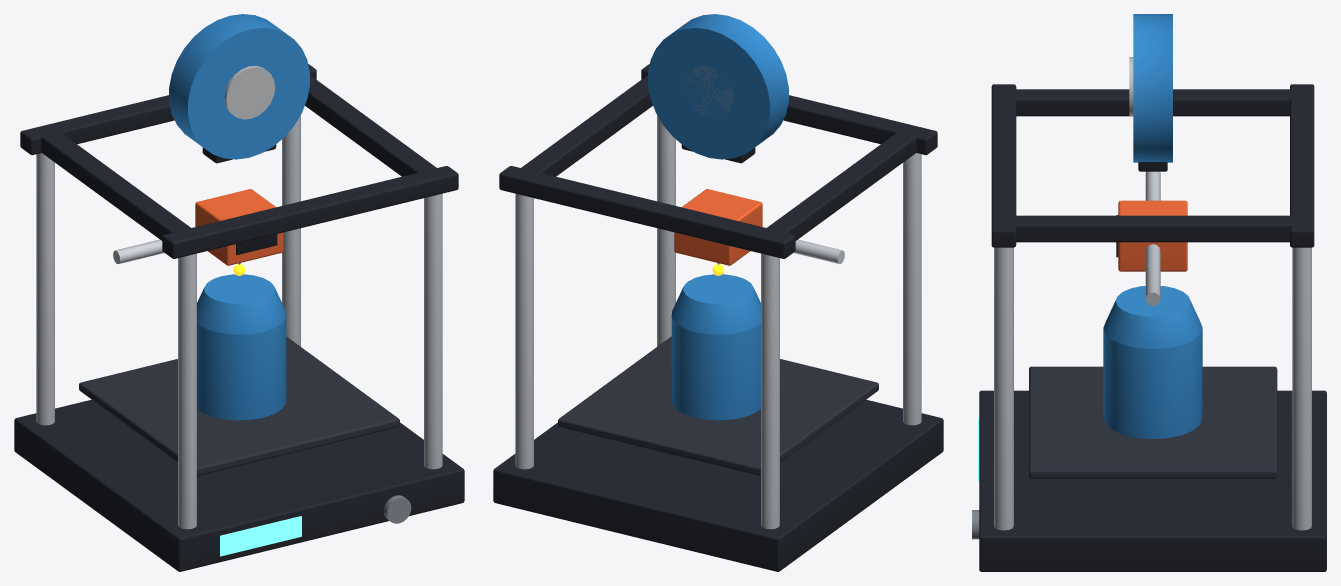
The model's file is printer-3d.glb.
3 renders of one model, left to right at view 1: azimuth 30°, elevation 25°; view 2: azimuth 150°, elevation 25°; view 3: azimuth 270°, elevation 25°, orthographic. The views are drawn at different scales.
Parts seen in each view (by area): view 1: printer-3d-solid, printer-3d-metal, head-1-rotor-solid, printer-3d-glow; view 2: printer-3d-solid, printer-3d-metal, head-1-rotor-solid; view 3: printer-3d-solid, printer-3d-metal, head-1-rotor-solid.
Boxes of the visible parts, left/top/right/bottom form: printer-3d-solid: left=14, top=14, right=464, bottom=571; printer-3d-metal: left=36, top=115, right=442, bottom=529; head-1-rotor-solid: left=195, top=189, right=283, bottom=265; printer-3d-glow: left=220, top=516, right=301, bottom=556; printer-3d-solid: left=493, top=14, right=943, bottom=571; printer-3d-metal: left=515, top=115, right=921, bottom=529; head-1-rotor-solid: left=674, top=189, right=762, bottom=265; printer-3d-solid: left=972, top=14, right=1326, bottom=571; printer-3d-metal: left=994, top=171, right=1311, bottom=530; head-1-rotor-solid: left=1116, top=200, right=1187, bottom=271.
Size of the model in its own units: 0.5595 by 0.8507 by 0.571.
